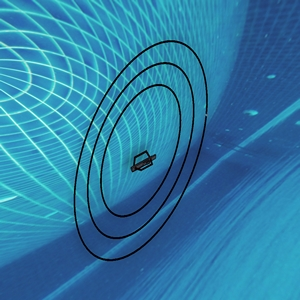circle: (62, 42, 247, 273)
submarine: (131, 156, 158, 172)
